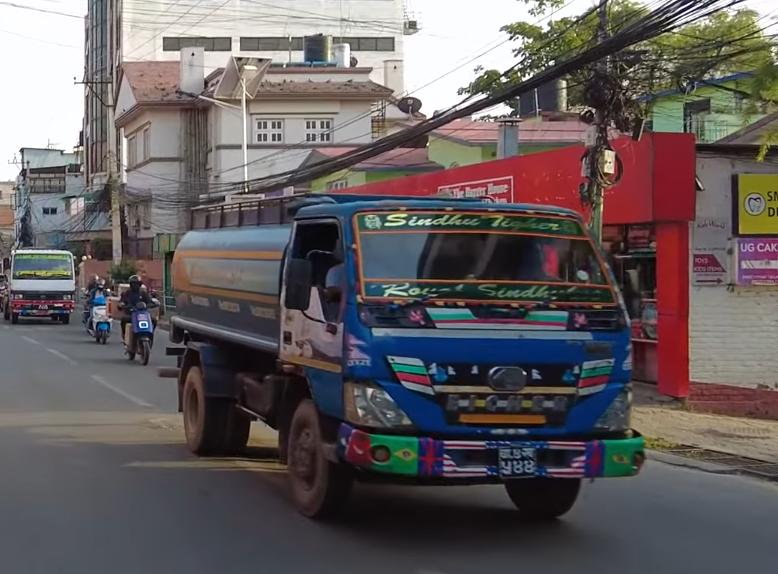bus: (0, 228, 86, 331)
mini_truck: (148, 188, 650, 526)
scooter: (116, 276, 167, 374), (87, 279, 118, 346)
